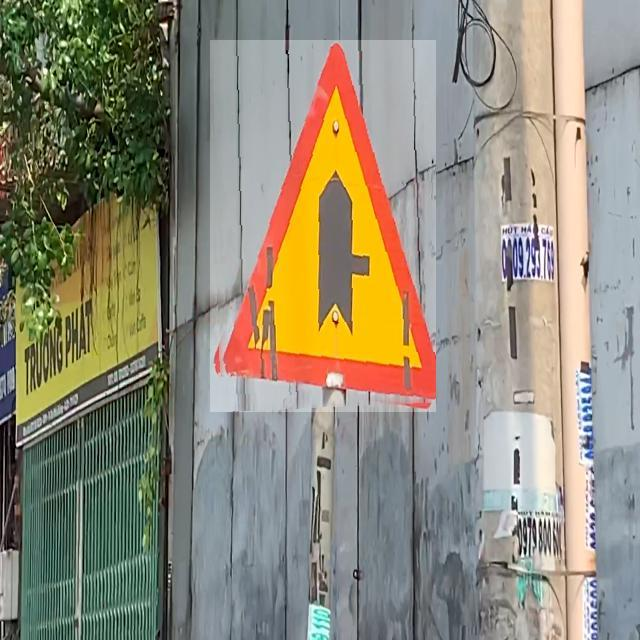W-207b: (210, 40, 436, 412)
